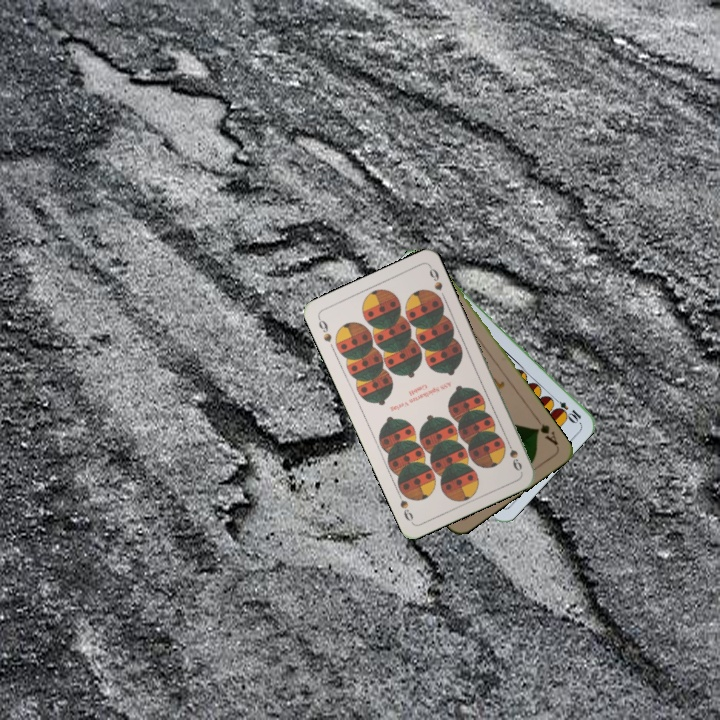E10: (548, 393, 584, 425)
GA: (531, 414, 561, 448)
S9: (502, 435, 525, 474), (314, 313, 334, 345)
